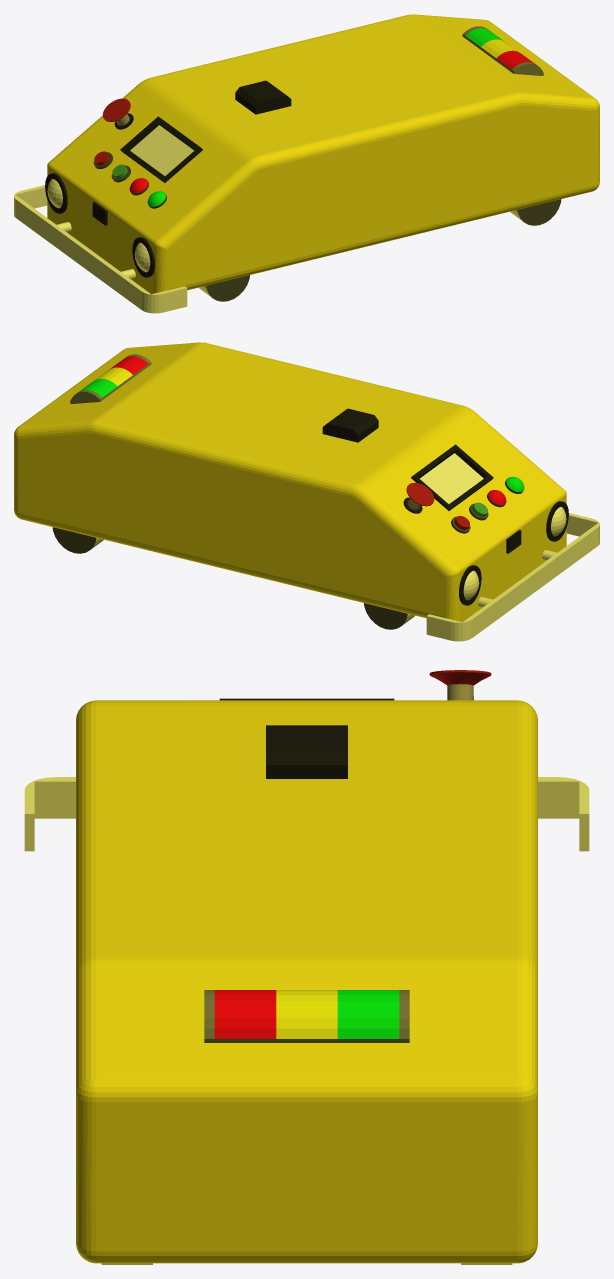
File: agv.dae
The picture shows the model from 3 angles, top to bottom: view 1: azimuth 30°, elevation 25°; view 2: azimuth 150°, elevation 25°; view 3: azimuth 270°, elevation 25°; orthographic projection. The views are drawn at different scales.
Visible parts, largest first — view 1: ShapeIndexedFaceSet; view 2: ShapeIndexedFaceSet; view 3: ShapeIndexedFaceSet.
Part boxes in pixels (box(x1,y1,x2,y2)): ShapeIndexedFaceSet: box(14, 14, 599, 313); ShapeIndexedFaceSet: box(14, 342, 599, 641); ShapeIndexedFaceSet: box(24, 670, 589, 1264).
Bounding box in the file's own units: 1.05 × 0.55 × 0.325.
